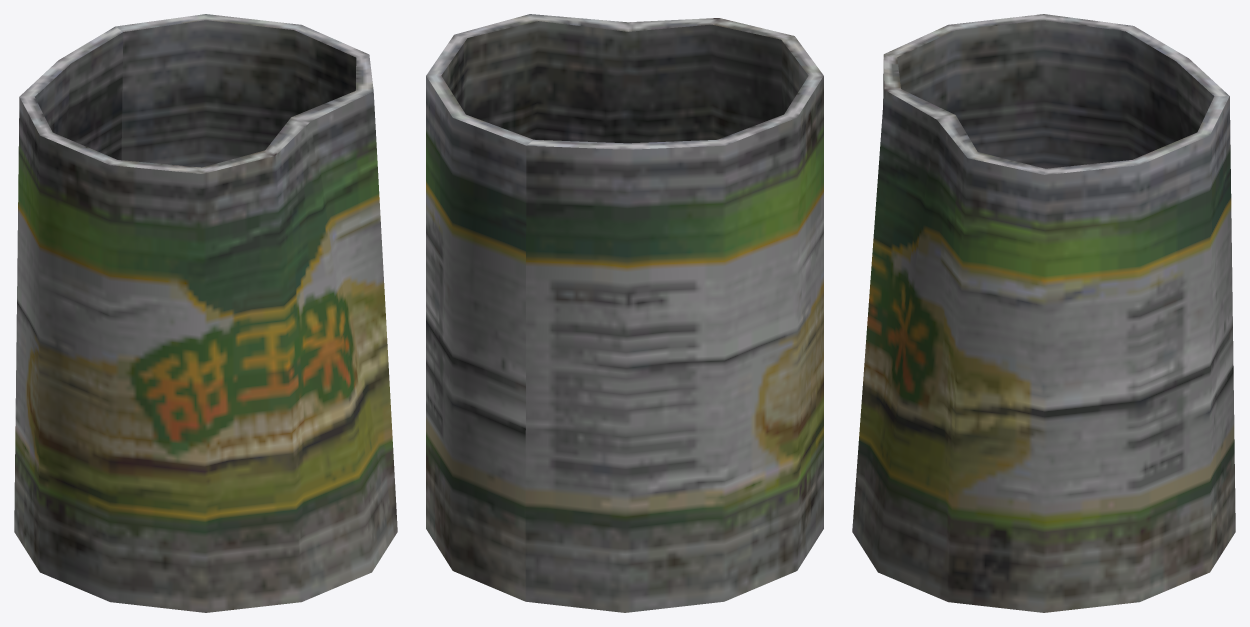
Rendered from tin_can_corn.dae.
3 renders of one model, left to right at view 1: azimuth 30°, elevation 25°; view 2: azimuth 150°, elevation 25°; view 3: azimuth 270°, elevation 25°, orthographic. The views are drawn at different scales.
Parts seen in each view (by area): view 1: tin_can_corn; view 2: tin_can_corn; view 3: tin_can_corn.
Part boxes in pixels (x1=…): tin_can_corn: x1=14, y1=14, x2=397, y2=612; tin_can_corn: x1=426, y1=14, x2=823, y2=612; tin_can_corn: x1=852, y1=14, x2=1235, y2=612.
Bounding box in the file's own units: 0.204 × 0.2564 × 0.204.
